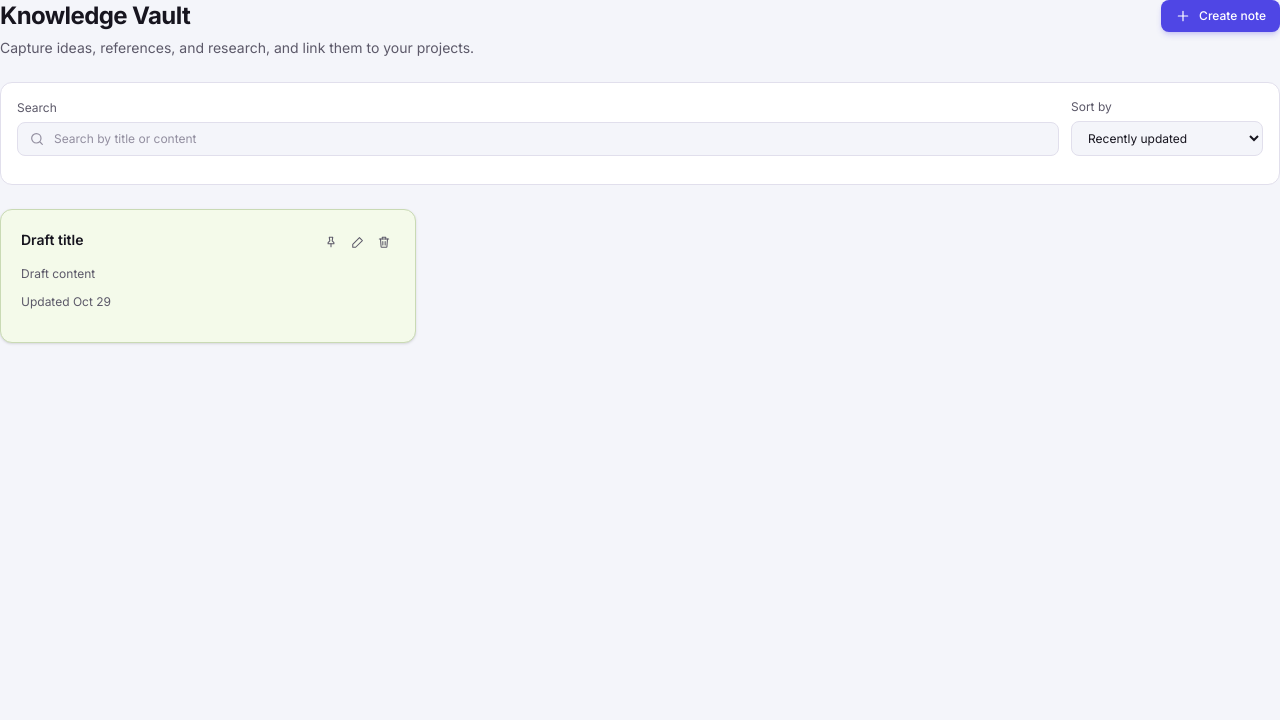
Test: KnowledgeVaultPage › edits a note through the form and persists the change
Expected: the heading "Draft title" is shown, top-left (21, 231), bottom-right (84, 248)
Click the button named "edit \"draft title\"". click: point(358, 242)
box: top-left (347, 230), bottom-right (369, 254)
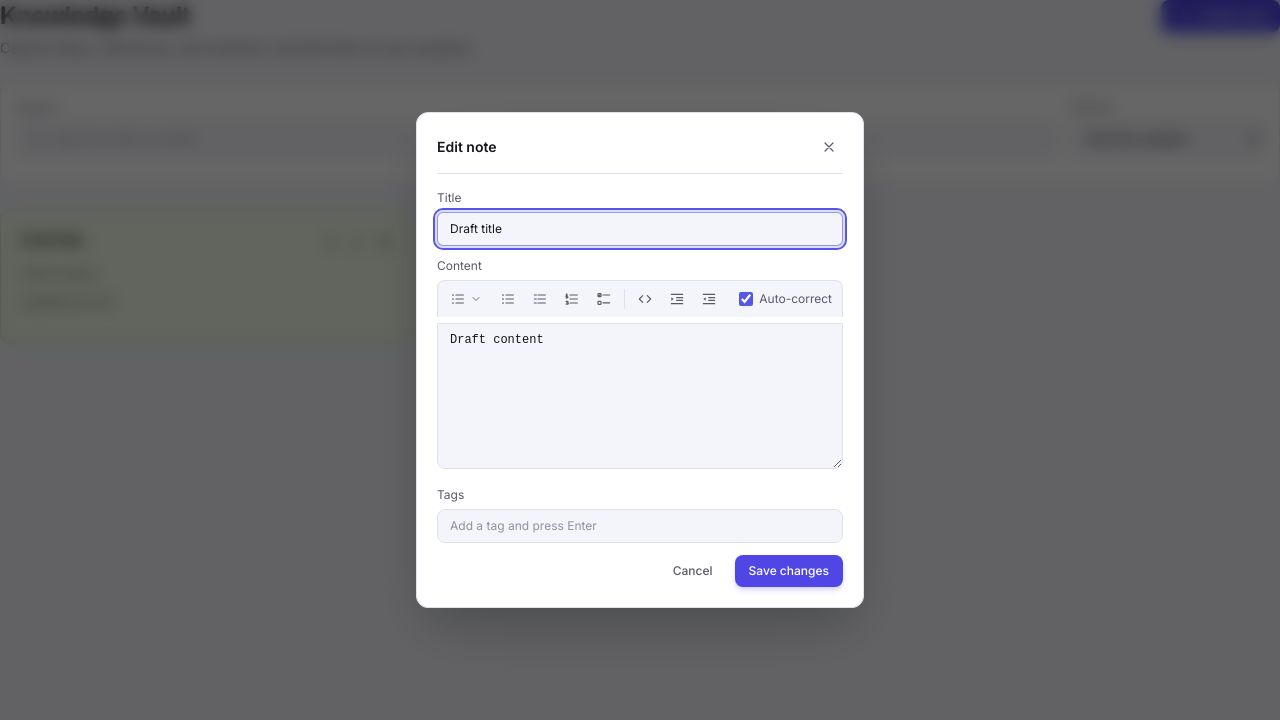
Replace the text in the field labelled "Title" with "Final title". click: point(640, 229)
box: top-left (437, 212), bottom-right (843, 246)
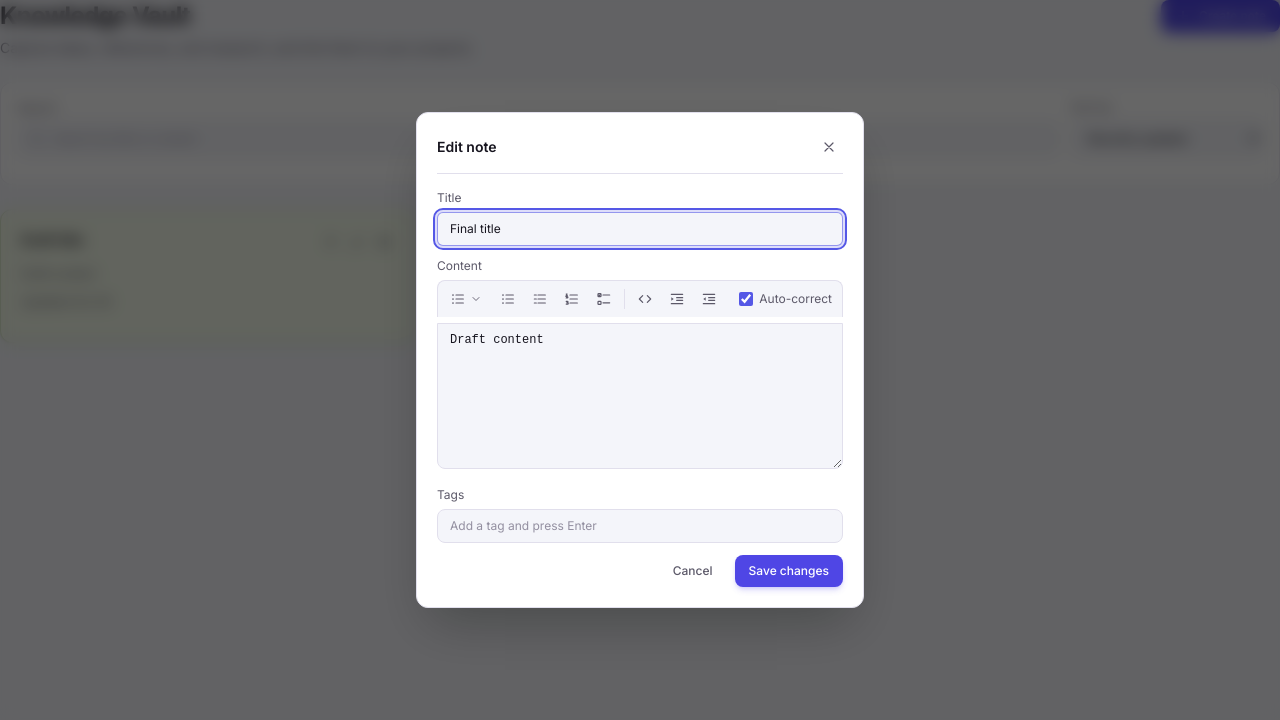
Click the button "Save changes". click: point(789, 571)
box: top-left (735, 555), bottom-right (843, 587)
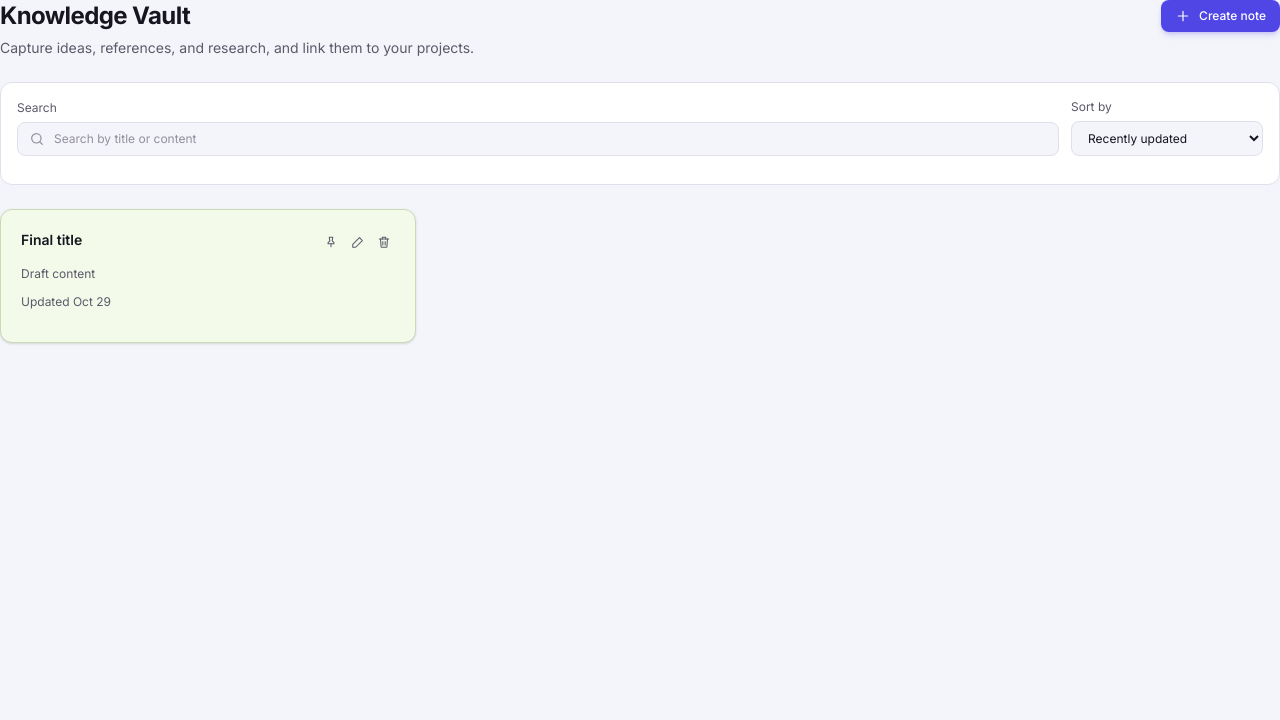
Expected: the dialog is gone
Expected: the heading "Final title" is shown, top-left (21, 231), bottom-right (82, 248)
